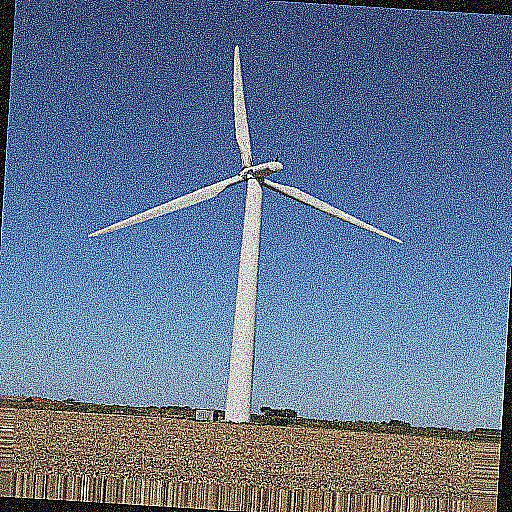wind turbine: (86, 45, 404, 418)
